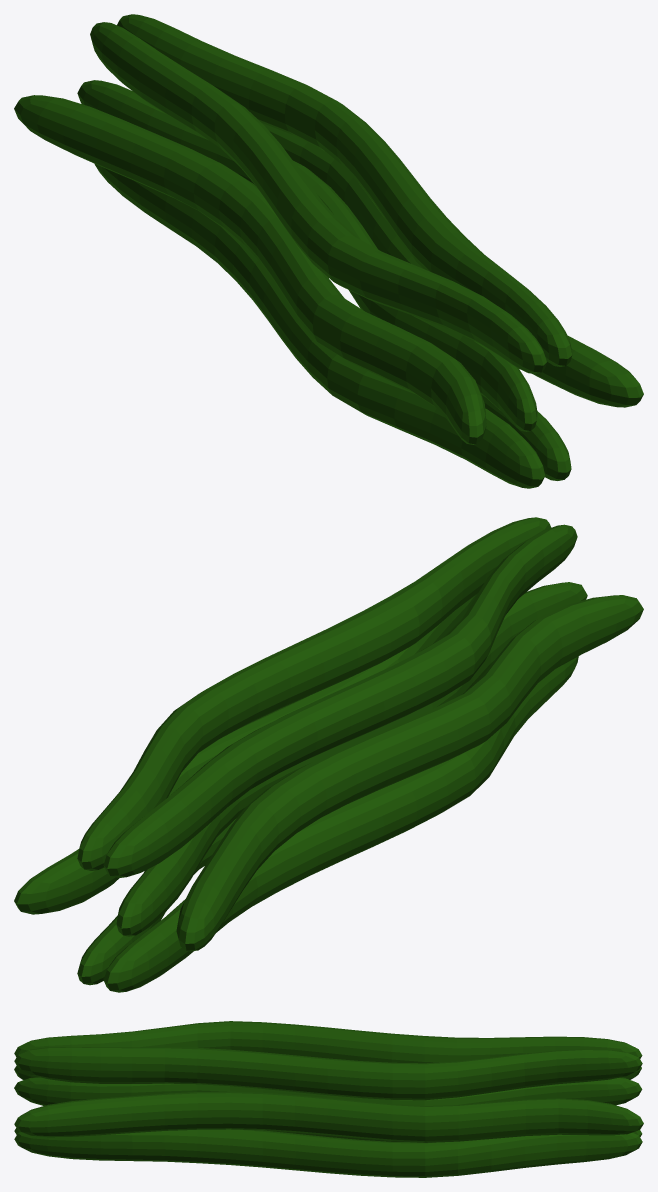
File: String Beans.fbx
The picture shows the model from 3 angles, top to bottom: view 1: azimuth 30°, elevation 25°; view 2: azimuth 150°, elevation 25°; view 3: azimuth 270°, elevation 25°; orthographic projection. The views are drawn at different scales.
Parts seen in each view (by area): view 1: String Beans; view 2: String Beans; view 3: String Beans.
Part boxes in pixels (x1,y1,x2,y2): String Beans: (14,14,643,488); String Beans: (14,517,643,992); String Beans: (14,1021,643,1177).
Size of the model in its own units: 13.76 by 11.21 by 56.55.
